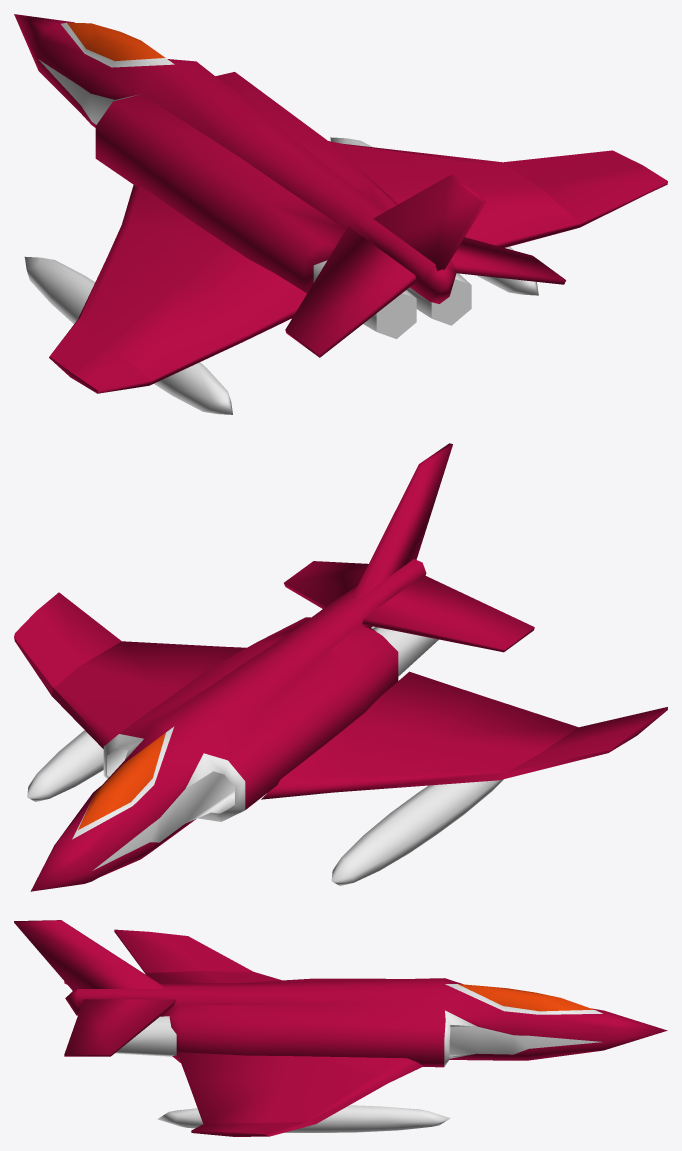
Rendered from Enemy.gltf.
3 views of the same model, one above another, from view 1: azimuth 30°, elevation 25°; view 2: azimuth 150°, elevation 25°; view 3: azimuth 270°, elevation 25° (orthographic). The views are drawn at different scales.
Visible parts, largest first — view 1: Cube.001, Cube, Cube.003, Cylinder.007, Cube.002, Cylinder; view 2: Cube.001, Cube, Cylinder.007, Cube.003, Cube.002, Cylinder; view 3: Cube.001, Cube, Cube.002, Cube.003, Cylinder.007, Cylinder.
Part boxes in pixels (bbox=[...]): Cube.001: bbox=[14, 14, 456, 303]; Cube: bbox=[49, 141, 667, 393]; Cube.003: bbox=[285, 226, 566, 357]; Cylinder.007: bbox=[24, 137, 538, 414]; Cube.002: bbox=[373, 175, 486, 271]; Cylinder: bbox=[313, 260, 471, 338]; Cube.001: bbox=[30, 559, 426, 891]; Cube: bbox=[14, 592, 667, 799]; Cylinder.007: bbox=[27, 730, 503, 885]; Cube.003: bbox=[284, 561, 534, 652]; Cube.002: bbox=[352, 443, 452, 599]; Cylinder: bbox=[371, 626, 438, 676]; Cube.001: bbox=[65, 978, 667, 1067]; Cube: bbox=[114, 929, 423, 1136]; Cube.002: bbox=[14, 920, 163, 992]; Cube.003: bbox=[64, 981, 175, 1056]; Cylinder.007: bbox=[157, 1105, 450, 1132]; Cylinder: bbox=[115, 1016, 176, 1056].
Bounding box in the file's own units: 12.17 × 4.77 × 15.85.
